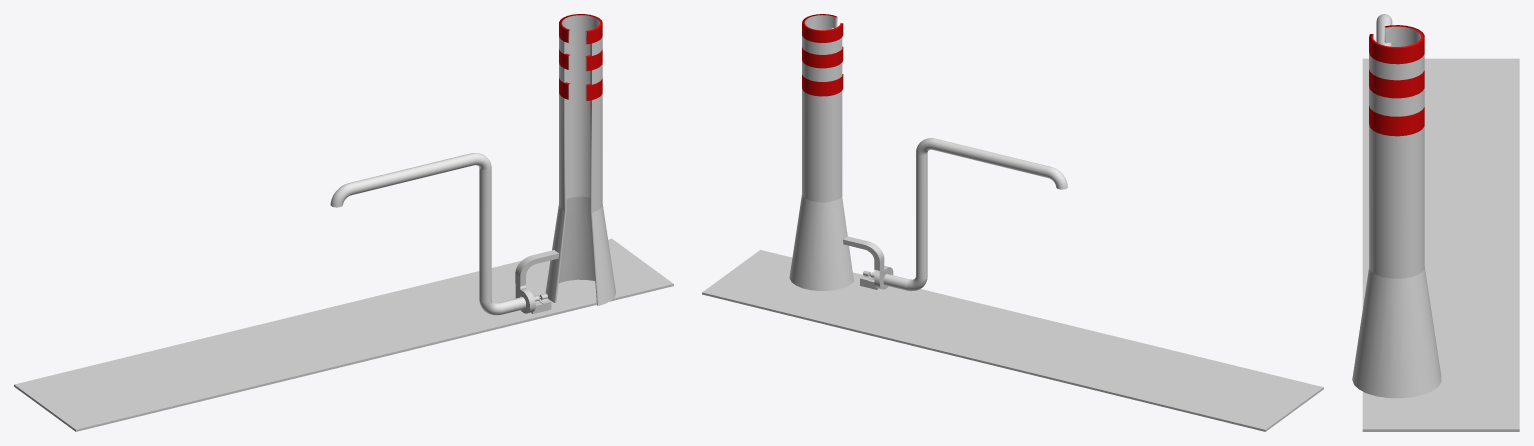
The model's file is right upper image scene_v002.fbx.
3 renders of one model, left to right at view 1: azimuth 30°, elevation 25°; view 2: azimuth 150°, elevation 25°; view 3: azimuth 270°, elevation 25°, orthographic. The views are drawn at different scales.
Visible parts, largest first — view 1: polySurface859, polySurface914, polySurface894, polySurface911; view 2: polySurface859, polySurface914, polySurface894, polySurface911; view 3: polySurface859, polySurface914, polySurface911, polySurface894.
Part boxes in pixels (x1=…): polySurface859: x1=14, y1=238, x2=673, y2=431; polySurface914: x1=545, y1=27, x2=615, y2=305; polySurface894: x1=330, y1=153, x2=525, y2=315; polySurface911: x1=559, y1=14, x2=602, y2=100; polySurface859: x1=702, y1=250, x2=1323, y2=431; polySurface914: x1=789, y1=26, x2=853, y2=290; polySurface894: x1=883, y1=138, x2=1067, y2=291; polySurface911: x1=802, y1=14, x2=843, y2=96; polySurface859: x1=1362, y1=58, x2=1519, y2=431; polySurface914: x1=1352, y1=42, x2=1441, y2=398; polySurface911: x1=1369, y1=25, x2=1424, y2=136; polySurface894: x1=1376, y1=14, x2=1392, y2=46.
Bounding box in the file's own units: 272 × 118 × 51.95.
